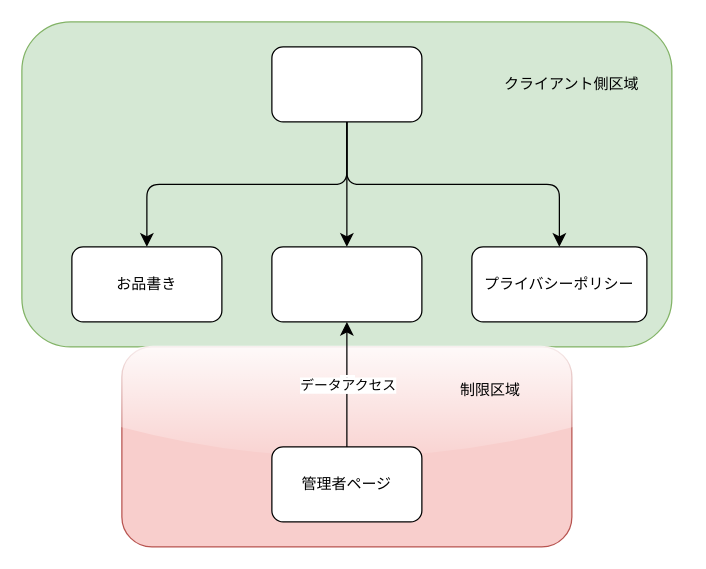
The diagram is 706 pixels wide and 569 high, and some of its shapes have lost their labels. The shapes that lost their labels are listed below. From the top down, each one's centre as x and y in pixels, then its label:
the point at 346,84: メインページ
the point at 346,284: 予約ページ
